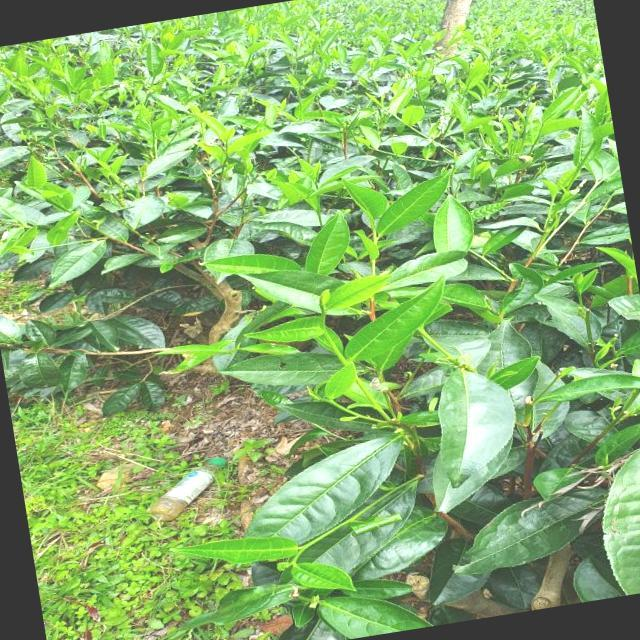Stem: (374, 237, 378, 243), (302, 546, 307, 550), (325, 332, 328, 337)
